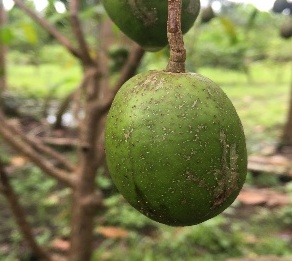Coc: (97, 63, 255, 236)
